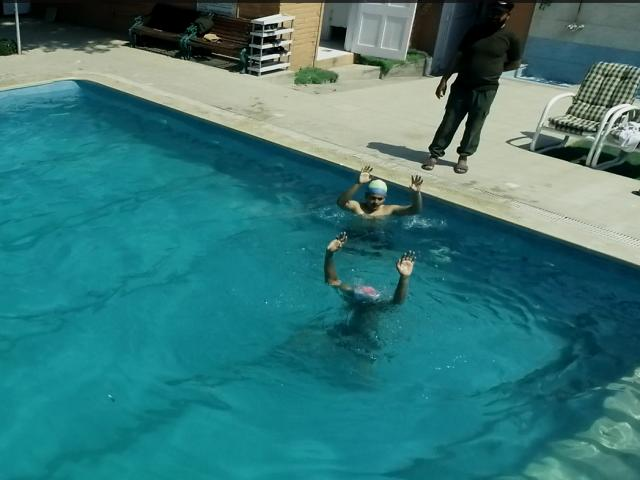drowning: (322, 232, 416, 364), (336, 166, 424, 250)
out of water: (422, 0, 527, 172)
